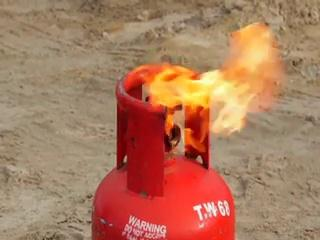Fire: (134, 9, 290, 171)
